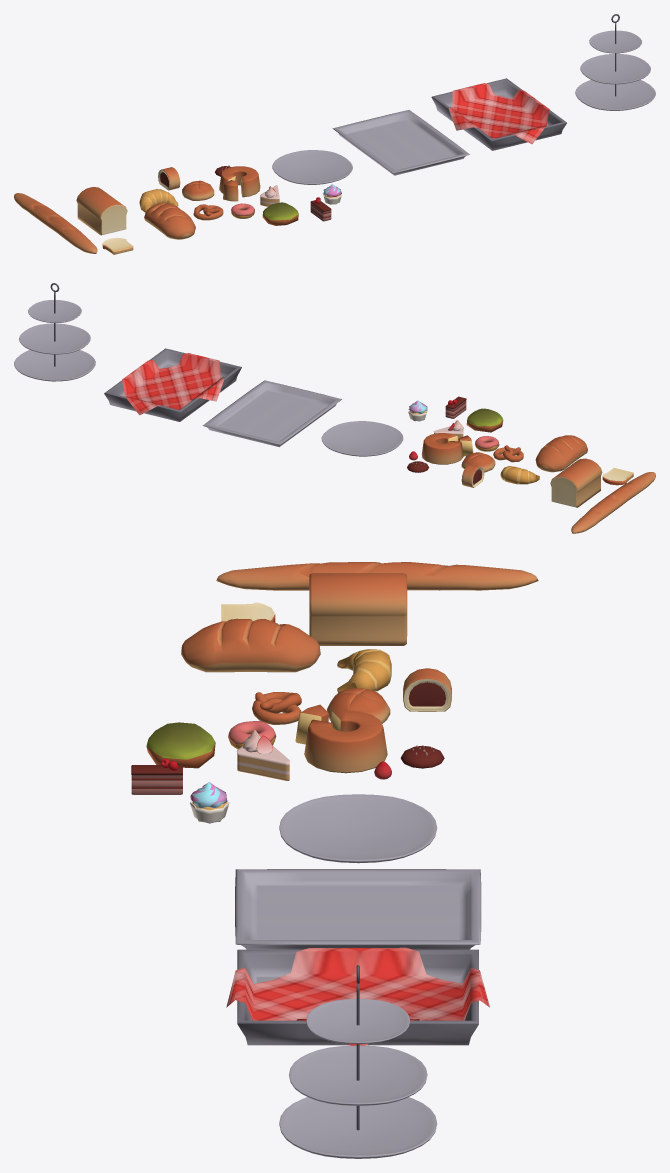
File: bakery_assets.glb
3 renders of one model, top to bottom at view 1: azimuth 30°, elevation 25°; view 2: azimuth 150°, elevation 25°; view 3: azimuth 270°, elevation 25°, orthographic. The views are drawn at different scales.
Parts seen in each view (by area): view 1: plate2, plate1, dishes, disc, TOAST, long bread, BIG BREAD, chiffon cake, melon pan, croissant, ROUND BUN, swiss roll (+3 smaller); view 2: plate2, plate1, dishes, disc, TOAST, long bread, BIG BREAD, chiffon cake, melon pan, croissant, ROUND BUN, swiss roll (+2 smaller); view 3: plate2, plate1, dishes, disc, TOAST, long bread, BIG BREAD, chiffon cake, melon pan, swiss roll, strawberry cake, croissant (+5 smaller).
Boxes of the visible parts, <box> form: plate2: <box>431,78,566,150</box>; plate1: <box>332,110,469,175</box>; dishes: <box>575,14,655,110</box>; disc: <box>272,150,352,184</box>; TOAST: <box>76,187,127,235</box>; long bread: <box>14,193,97,253</box>; BIG BREAD: <box>144,203,195,239</box>; chiffon cake: <box>219,166,260,201</box>; melon pan: <box>262,202,298,225</box>; croissant: <box>139,189,178,212</box>; ROUND BUN: <box>182,180,214,200</box>; swiss roll: <box>158,167,180,190</box>; plate2: <box>104,348,241,421</box>; plate1: <box>203,380,341,447</box>; dishes: <box>14,283,95,381</box>; disc: <box>321,421,403,456</box>; TOAST: <box>550,458,602,507</box>; long bread: <box>571,472,655,533</box>; BIG BREAD: <box>535,435,587,472</box>; chiffon cake: <box>421,433,473,464</box>; melon pan: <box>466,408,503,432</box>; croissant: <box>500,466,539,484</box>; ROUND BUN: <box>461,452,495,472</box>; swiss roll: <box>461,464,484,487</box>; plate2: <box>226,947,489,1045</box>; plate1: <box>235,869,481,949</box>; dishes: <box>279,965,437,1158</box>; disc: <box>279,794,437,863</box>; TOAST: <box>309,573,407,645</box>; long bread: <box>216,562,538,590</box>; BIG BREAD: <box>181,618,320,672</box>; chiffon cake: <box>295,704,387,773</box>; melon pan: <box>146,722,215,768</box>; swiss roll: <box>403,668,451,711</box>; strawberry cake: <box>236,730,289,780</box>; croissant: <box>337,649,391,692</box>.
Size of the model in its own units: 1580 by 215 by 466.
1 material, 1 textured.
